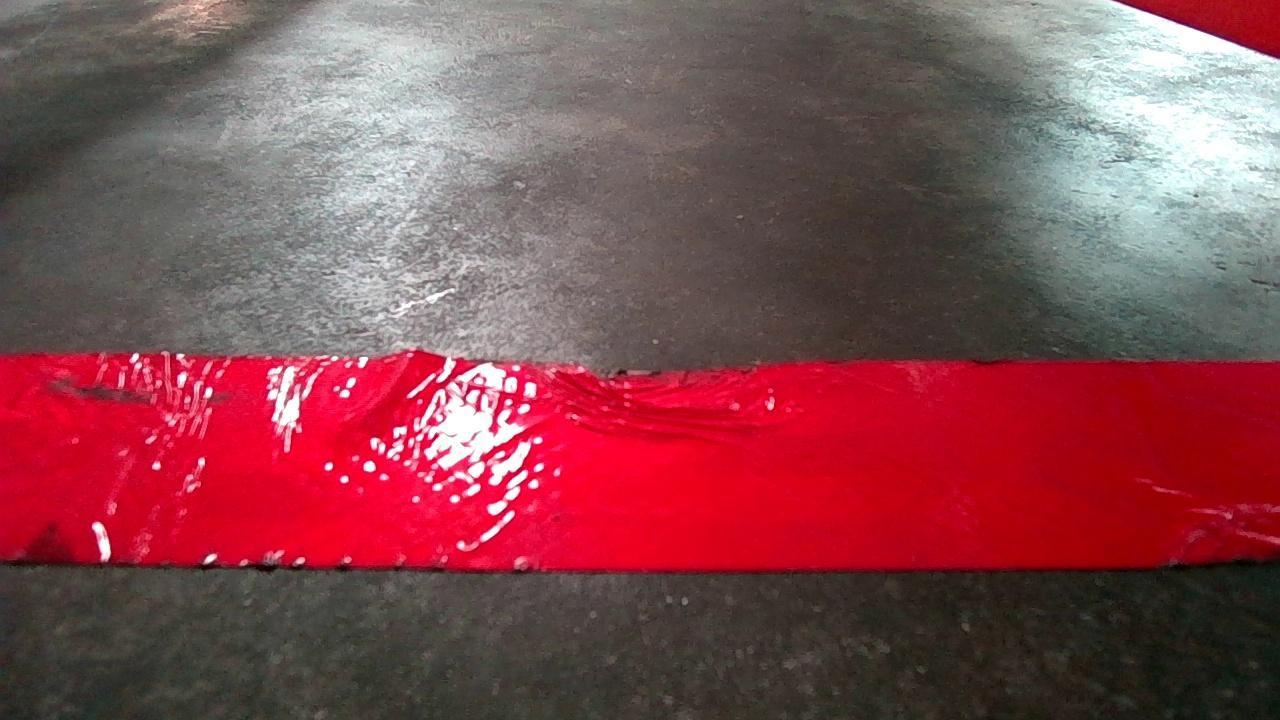red_line: (27, 354, 1254, 579)
